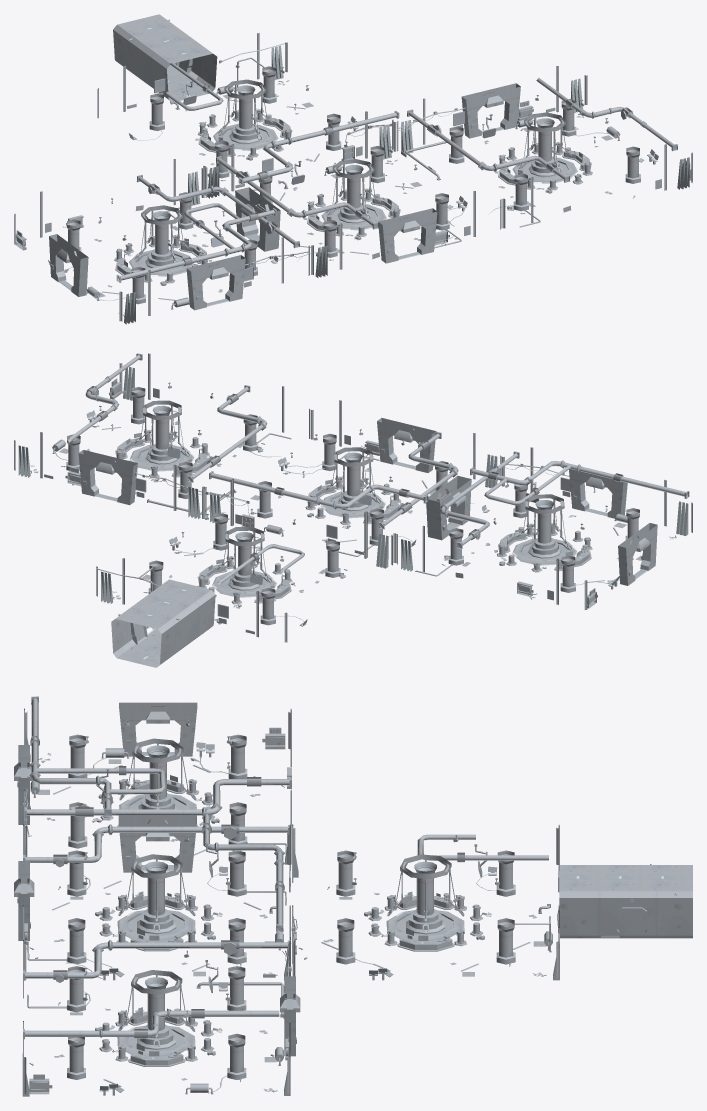
File: Combined_Mesh_root_scene__10_7ad9d44b__ZombiesII_laboratory_02_d_7436f9f5_c1f257_part001.obj
3 views of the same model, one above another, from view 1: azimuth 30°, elevation 25°; view 2: azimuth 150°, elevation 25°; view 3: azimuth 270°, elevation 25° (orthographic). The views are drawn at different scales.
Bounding box in the file's own units: 124 × 10.34 × 102.
541 materials, 541 textured.
